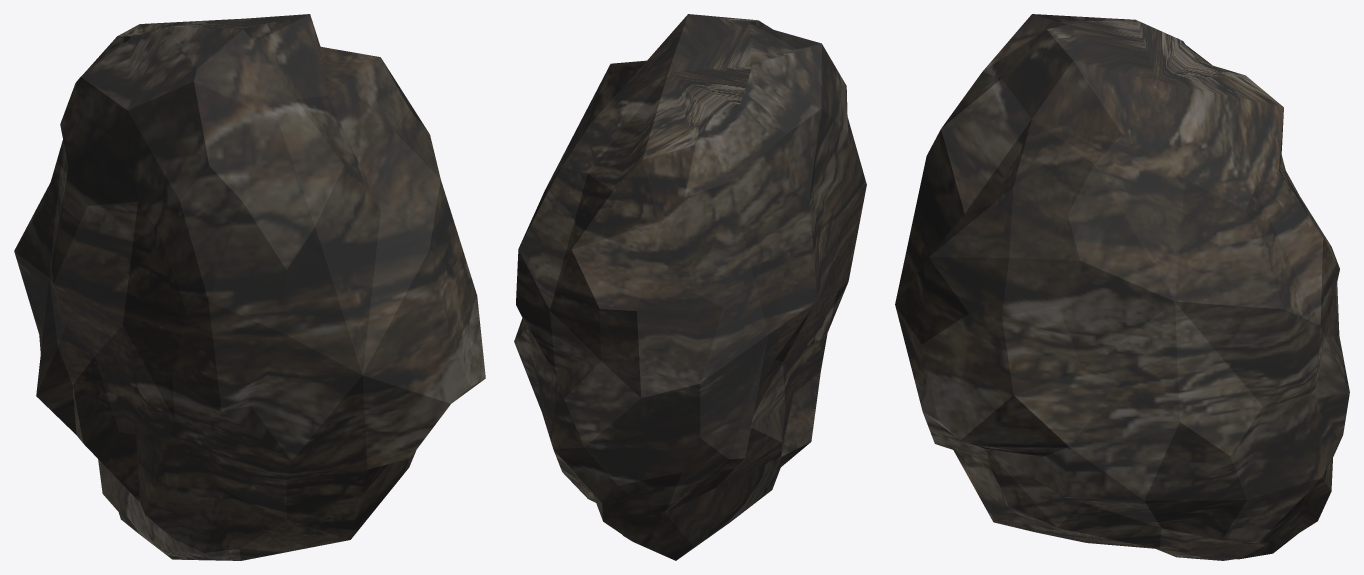
3 renders of one model, left to right at view 1: azimuth 30°, elevation 25°; view 2: azimuth 150°, elevation 25°; view 3: azimuth 270°, elevation 25°, orthographic. The views are drawn at different scales.
Visible parts, largest first — view 1: AsteroidA2; view 2: AsteroidA2; view 3: AsteroidA2.
Part boxes in pixels (x1,y1,x2,y2): AsteroidA2: [14, 14, 485, 560]; AsteroidA2: [514, 14, 866, 560]; AsteroidA2: [895, 14, 1349, 560].
Bounding box in the file's own units: 1.2 × 1.89 × 1.45.
Materials: 1 (1 with a texture image).
